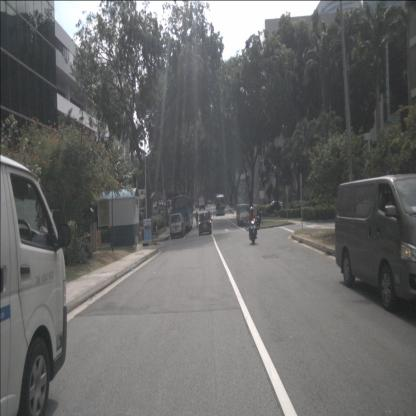human-pedestrian-adult: (196, 211, 198, 227)
vehicle-bus-rigid: (172, 195, 193, 232), (216, 194, 225, 216)
vehicle-car: (0, 154, 68, 415), (334, 174, 416, 312), (170, 213, 186, 240), (236, 204, 250, 226), (199, 212, 212, 235), (154, 203, 170, 213), (267, 200, 283, 210), (202, 211, 211, 222)
vehicle-motorcycle: (245, 207, 263, 231), (248, 206, 258, 245)
vehicle-truck: (198, 195, 206, 210)
